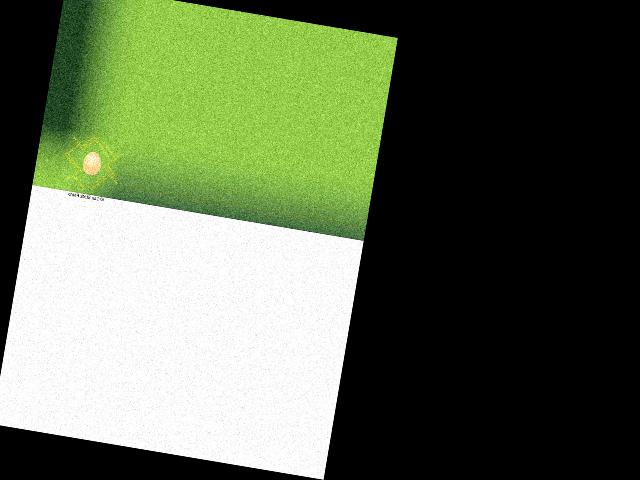egg: (81, 150, 102, 176)
